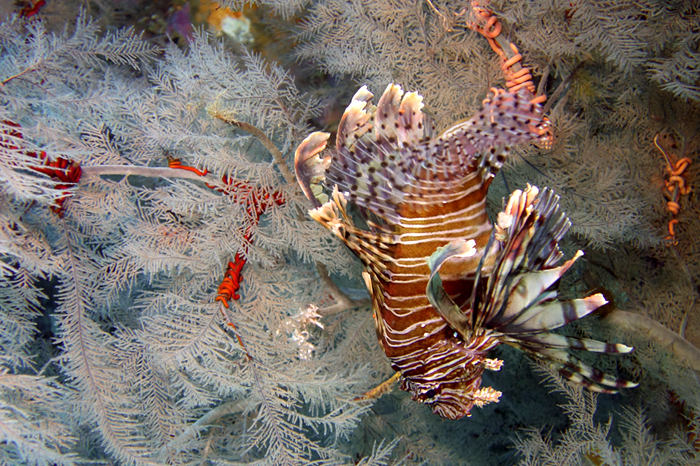Pterois_volitans: (296, 62, 591, 432)
